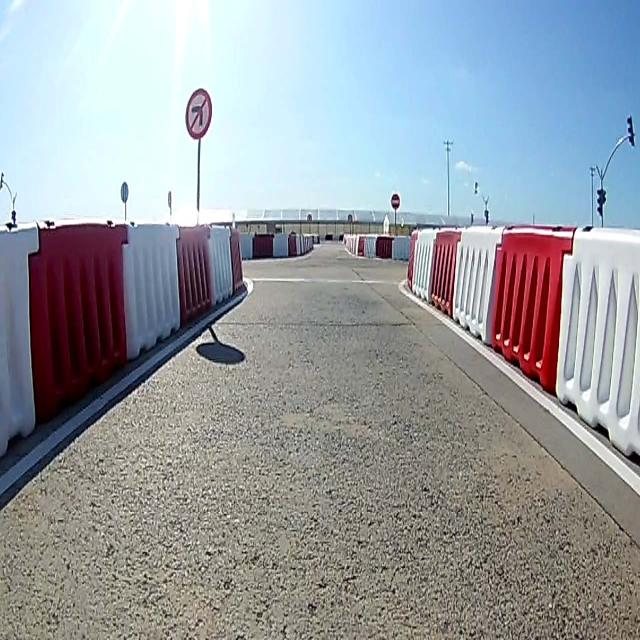girisyok: (390, 192, 400, 209)
soladonulmez: (184, 87, 213, 141)
